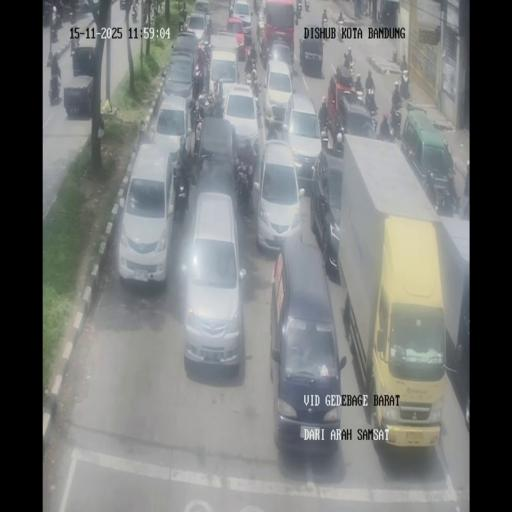3: (336, 138, 459, 446), (380, 0, 400, 27)
car: (270, 239, 343, 452), (182, 190, 246, 370), (117, 144, 176, 286), (313, 148, 344, 278), (283, 94, 322, 187), (153, 93, 194, 178), (193, 114, 237, 191), (208, 46, 239, 102), (164, 56, 198, 106), (299, 34, 324, 76), (267, 39, 294, 77), (184, 11, 210, 47), (231, 0, 252, 34)
truck: (172, 160, 190, 219), (443, 172, 460, 211), (244, 67, 261, 102), (190, 95, 203, 132), (48, 72, 61, 104), (211, 89, 225, 118), (234, 164, 245, 200), (390, 109, 402, 139), (367, 100, 378, 132), (257, 14, 266, 53), (319, 117, 330, 148), (193, 132, 202, 167), (265, 116, 278, 140), (376, 124, 393, 142), (400, 72, 410, 101), (42, 1, 52, 27), (461, 190, 470, 218), (178, 10, 188, 33), (255, 96, 263, 124), (249, 42, 257, 70), (392, 93, 403, 113), (335, 130, 344, 154), (54, 3, 62, 30), (122, 0, 132, 21), (151, 0, 162, 18), (143, 0, 151, 23), (348, 58, 355, 83), (356, 82, 364, 102), (322, 8, 328, 34), (131, 2, 138, 22), (294, 3, 300, 25), (338, 21, 344, 42), (206, 14, 212, 33), (70, 5, 76, 24), (253, 0, 261, 14), (401, 54, 407, 71), (229, 0, 235, 16), (377, 9, 383, 23), (304, 0, 309, 11)
